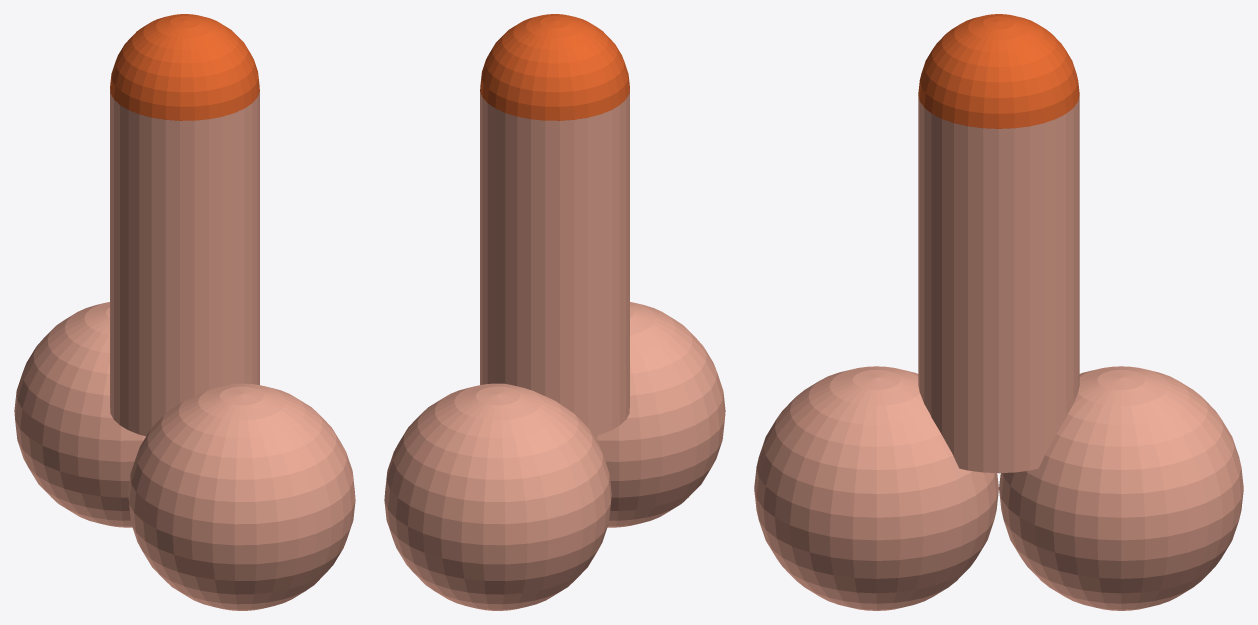
The model's file is siur.glb.
3 renders of one model, left to right at view 1: azimuth 30°, elevation 25°; view 2: azimuth 150°, elevation 25°; view 3: azimuth 270°, elevation 25°, orthographic. The views are drawn at different scales.
Visible parts, largest first — view 1: Cylinder, Sphere, Sphere.001; view 2: Cylinder, Sphere.001, Sphere; view 3: Cylinder, Sphere, Sphere.001.
Part boxes in pixels (left/top/right/bottom): Cylinder: left=110, top=14, right=259, bottom=436; Sphere: left=128, top=383, right=355, bottom=610; Sphere.001: left=14, top=302, right=145, bottom=527; Cylinder: left=480, top=14, right=629, bottom=436; Sphere.001: left=384, top=383, right=611, bottom=610; Sphere: left=594, top=302, right=725, bottom=527; Cylinder: left=918, top=14, right=1079, bottom=473; Sphere: left=754, top=366, right=998, bottom=610; Sphere.001: left=999, top=366, right=1243, bottom=610.
Bounding box in the file's own units: 3.03 × 7.9 × 6.06.
Materials: 2 (2 with a texture image).
